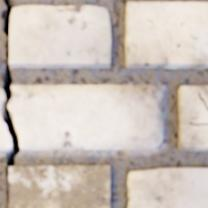brick: (11, 6, 110, 67), (126, 2, 207, 68), (10, 166, 110, 207), (128, 169, 207, 207), (179, 87, 207, 151)
broken_brick: (11, 86, 164, 151), (0, 119, 10, 153), (0, 89, 3, 102)
crack: (0, 0, 22, 205)
